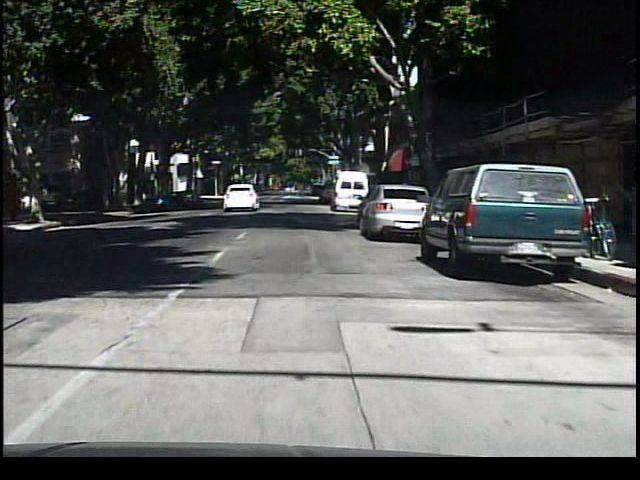person: (37, 180, 54, 223), (293, 177, 311, 206)
